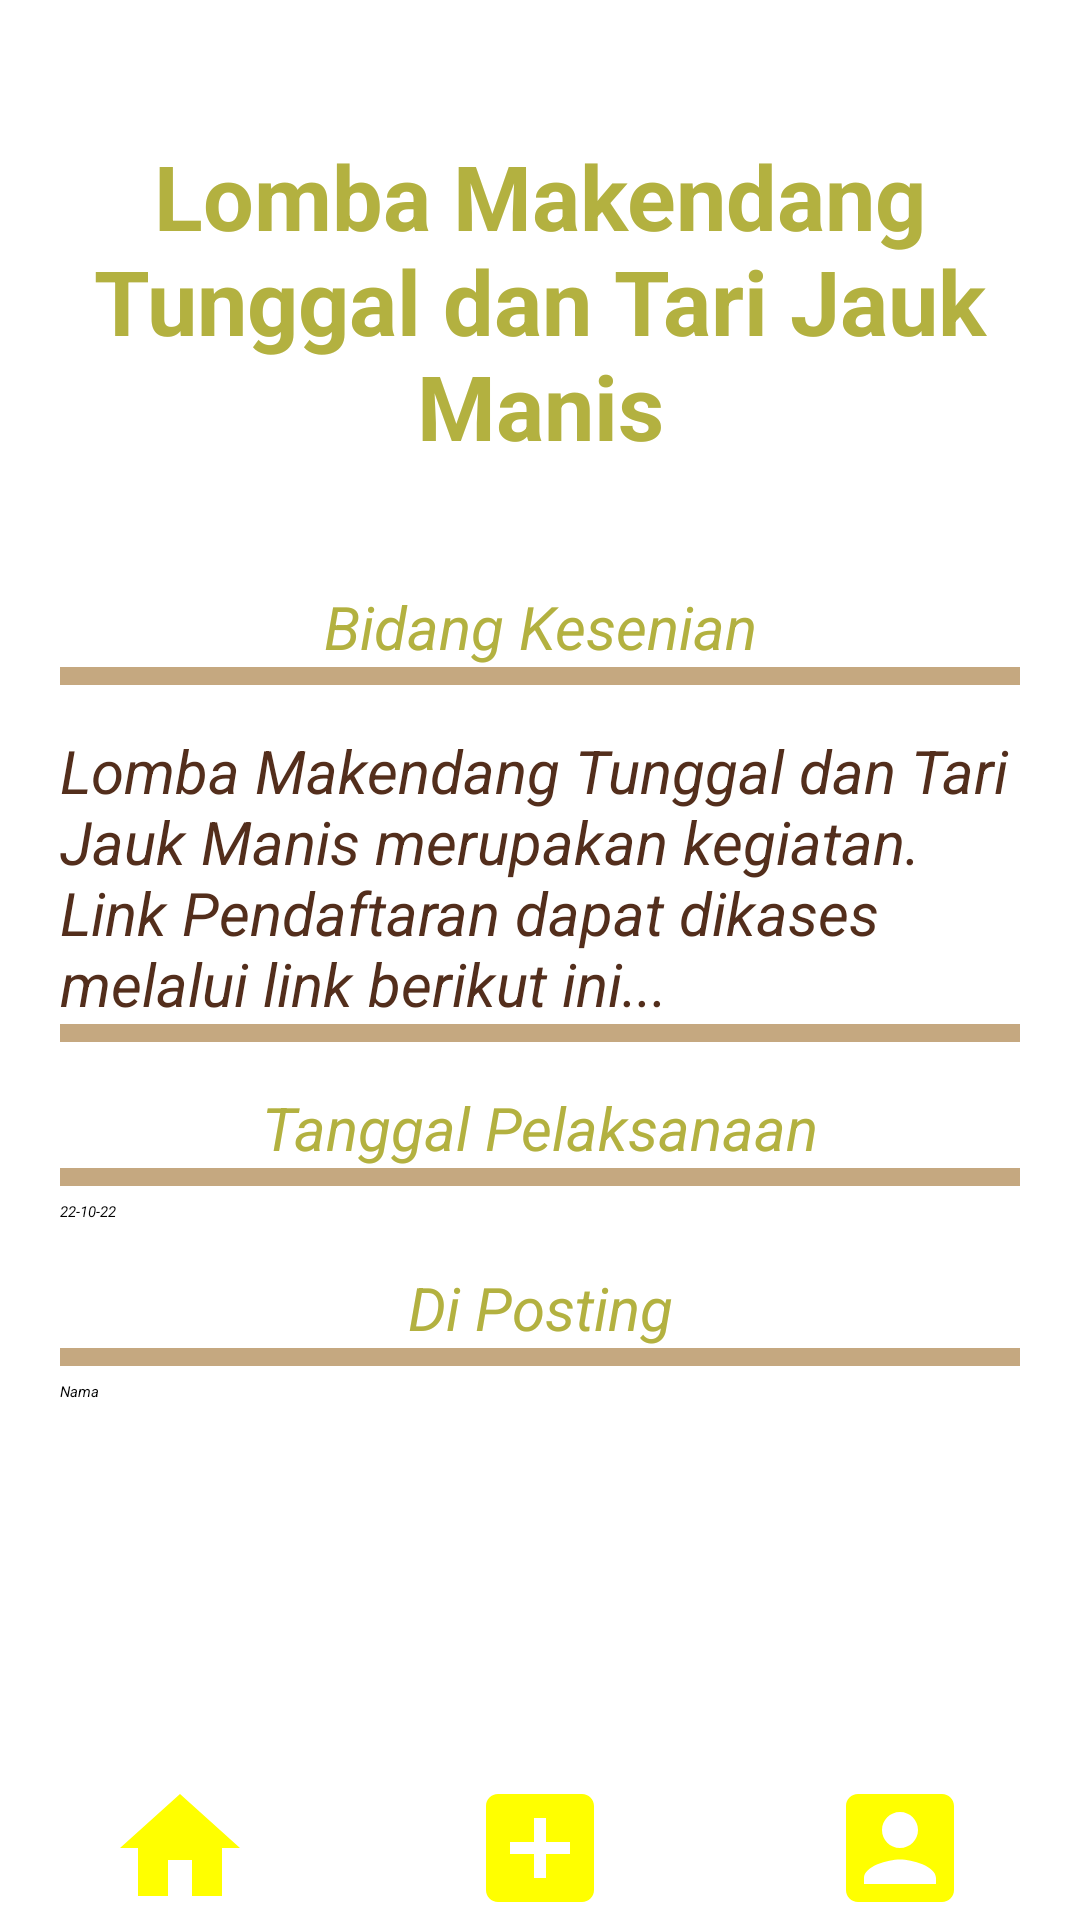

Where icons sit on this 1080px x 1920px app screen, as Rect(x1, y1, x2, y2):
account: Rect(846, 1794, 954, 1902)
add: Rect(486, 1794, 594, 1902)
home: Rect(120, 1794, 240, 1896)
